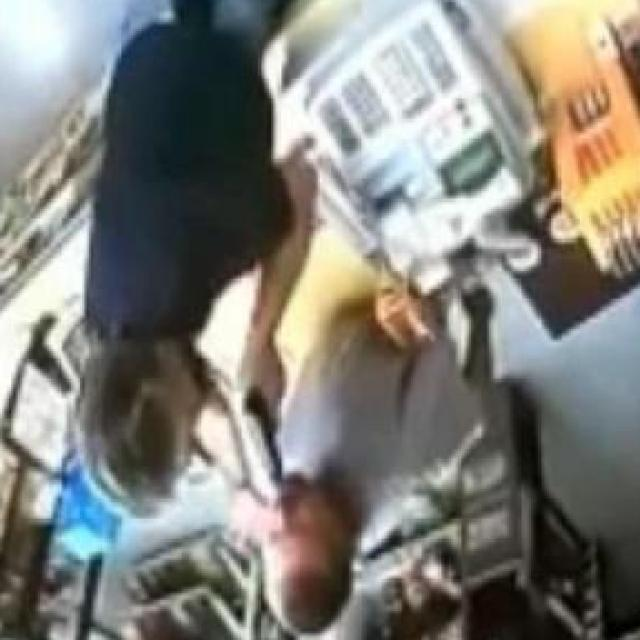pistol: (238, 388, 289, 484)
